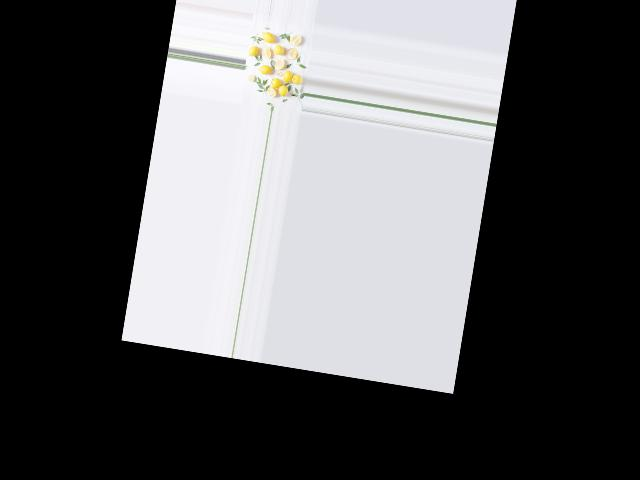lemon: (290, 70, 303, 86)
